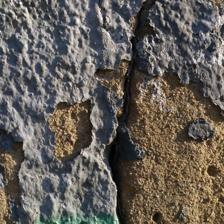Crack: (51, 1, 111, 223)
